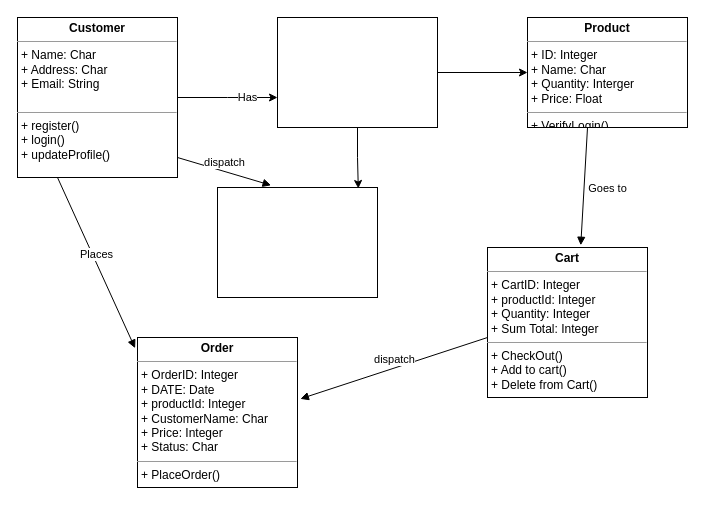
Some shapes in this 705 by 505 pixel diagram are drawn without their labels. Here are the shapes that lost their labels. From the top down, the centre of each, then its label:
At point (357, 72): "Account + ID: Integer + Password: Char + Login status: Char + VerifyLogin()".
At point (297, 242): "Shipping Info + ID: Integer + Type: Char + Cost: Integer + Region: Char".
